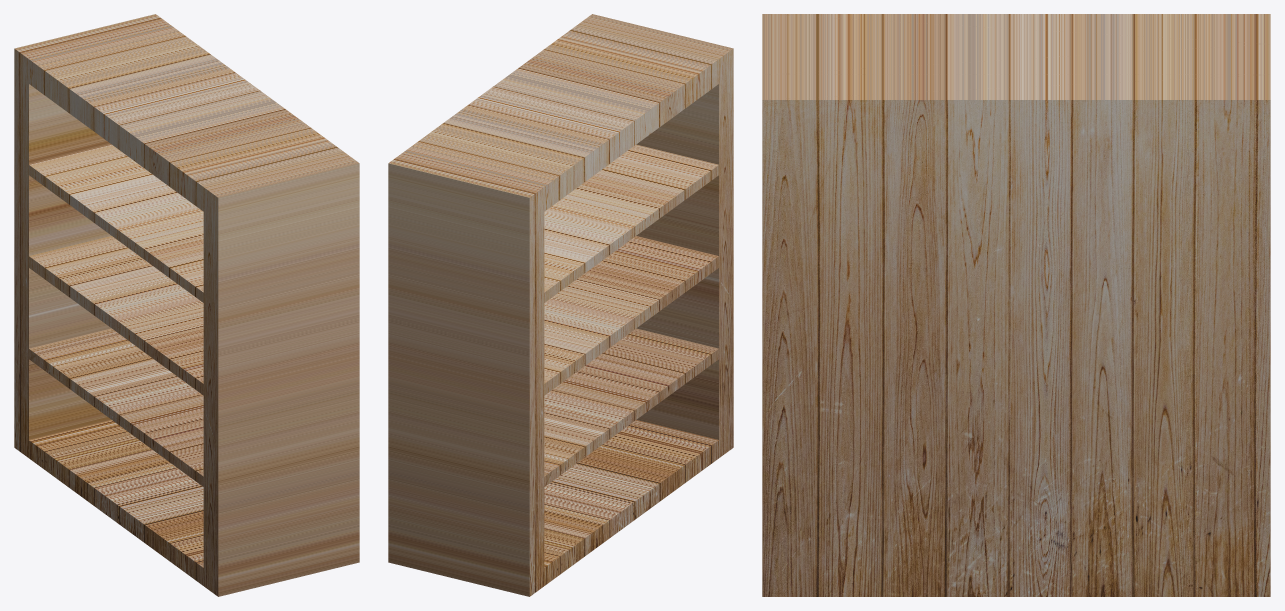
Rendered from BookShelf.fbx.
3 renders of one model, left to right at view 1: azimuth 30°, elevation 25°; view 2: azimuth 150°, elevation 25°; view 3: azimuth 270°, elevation 25°, orthographic. The views are drawn at different scales.
Visible parts, largest first — view 1: pCube6; view 2: pCube6; view 3: pCube6.
Part boxes in pixels (x1,y1,x2,y2): pCube6: (14, 14, 359, 596); pCube6: (388, 14, 733, 596); pCube6: (762, 14, 1270, 596).
Bounding box in the file's own units: 5.99 × 16.16 × 14.98.
